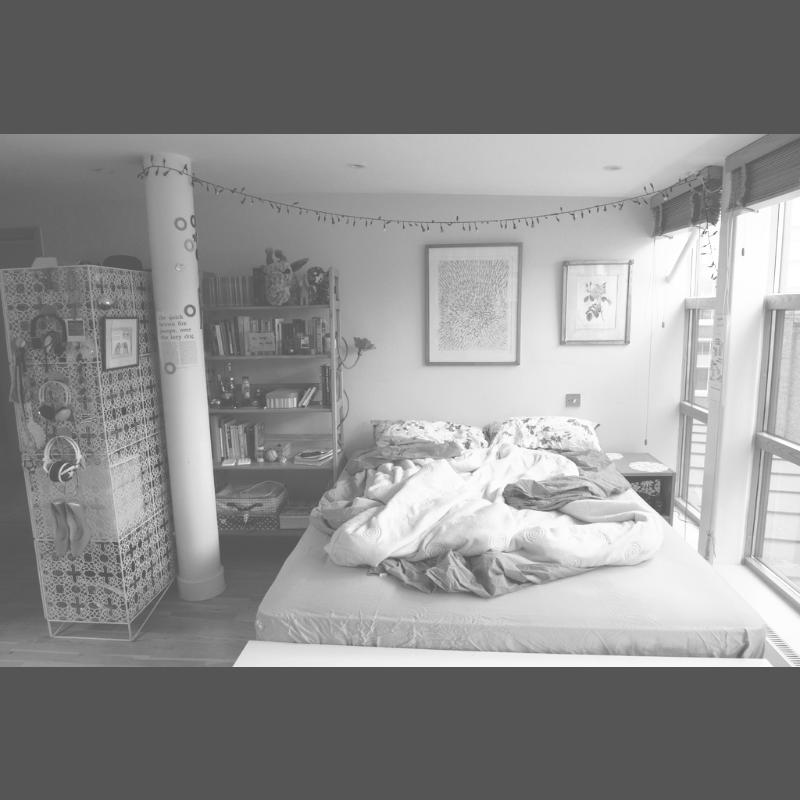pillow: (373, 418, 480, 450), (484, 420, 600, 448)
